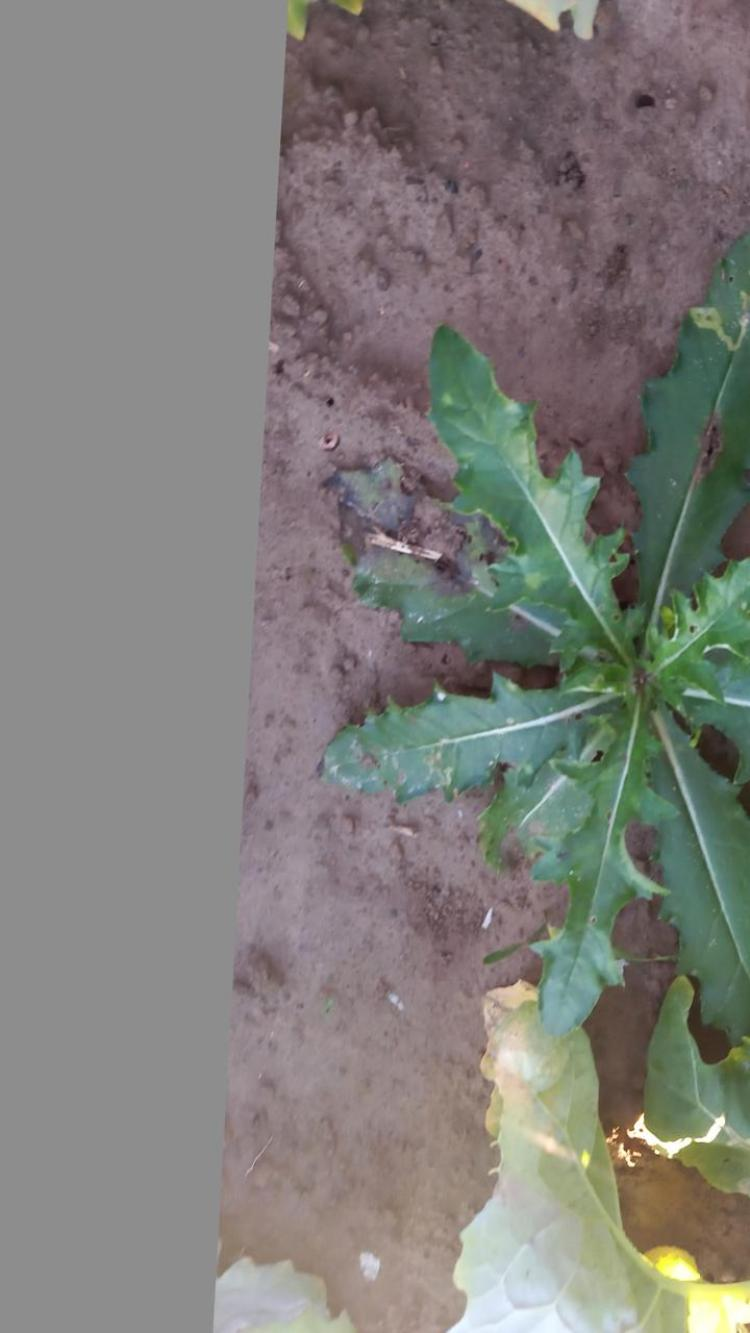bodyak: (316, 269, 750, 1054)
